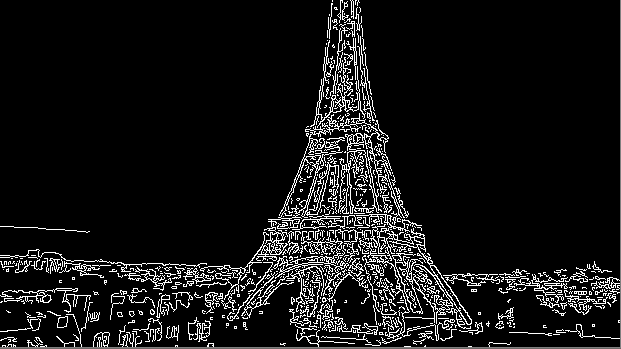eiffel tower: (222, 5, 468, 323)
